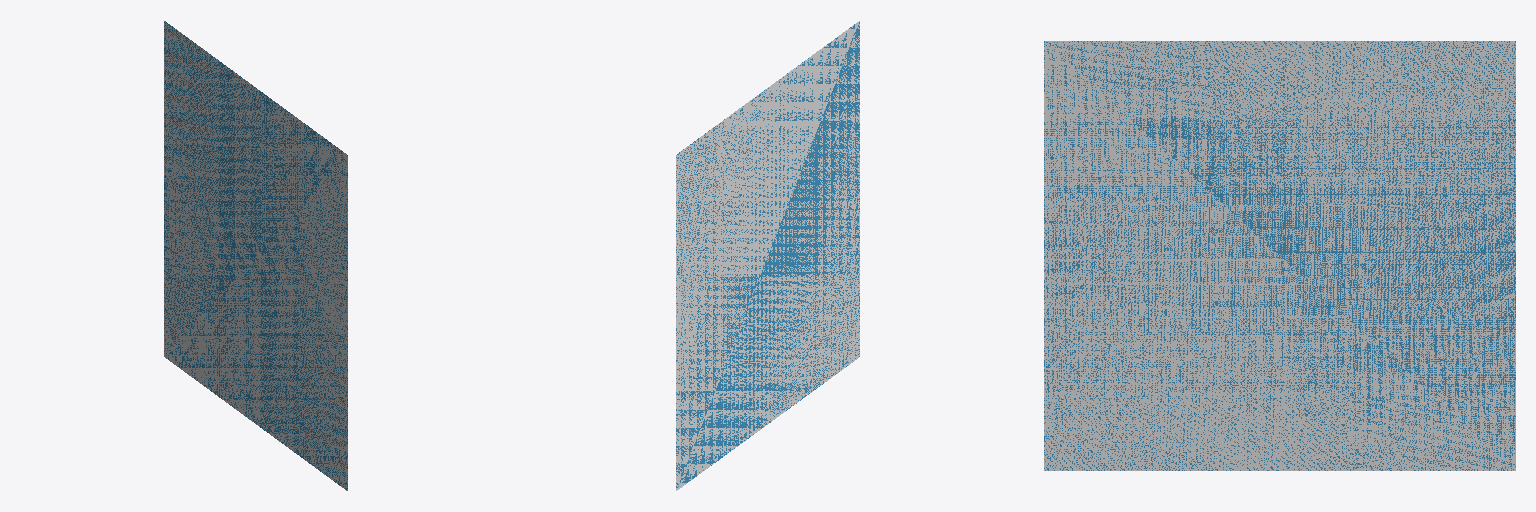
URDF robot description (prius):
<?xml version="1.0"?>
<robot xmlns:xacro="http://ros.org/wiki/xacro" name="prius">
  <!--- Surface properties must come first? -->
  <gazebo reference="front_left_wheel">
    <mu1>0.9</mu1>
    <mu2>0.9</mu2>
    <minDepth>0.005</minDepth>
    <kp>1e8</kp>
  </gazebo>
  <gazebo reference="front_right_wheel">
    <mu1>0.9</mu1>
    <mu2>0.9</mu2>
    <minDepth>0.005</minDepth>
    <kp>1e8</kp>
  </gazebo>
  <gazebo reference="rear_left_wheel">
    <mu1>0.9</mu1>
    <mu2>0.9</mu2>
    <minDepth>0.005</minDepth>
    <kp>1e8</kp>
  </gazebo>
  <gazebo reference="rear_right_wheel">
    <mu1>0.9</mu1>
    <mu2>0.9</mu2>
    <minDepth>0.005</minDepth>
    <kp>1e8</kp>
  </gazebo>

	<gazebo reference="planding_place">
		  <mu1>0.9</mu1>
		  <mu2>0.9</mu2>
		  <minDepth>0.005</minDepth>
		  <kp>1e8</kp>
	</gazebo>


  <link name="base_link">
    <inertial>
      <mass value="1"/>
      <inertia ixx="0.001" ixy="0.0" ixz="0.0" iyy="0.001" iyz="0.0" izz="0.001"/>
    </inertial>
  </link>
  <joint name="base_link_connection" type="fixed">
    <parent link="base_link"/>
    <child link="chassis"/>
    <origin xyz="1.45 0 0" rpy="0 0 1.57"/>
    <axis xyz="1 0 0"/>
  </joint>


  <link name="planding_place">
    <inertial>
      <mass value="0.1"/>
      <origin xyz="0 0 0"/>
      <inertia ixx="0.0" ixy="0.0" ixz="0.0" iyy="0.0" iyz="0.0" izz="0.0"/>
    </inertial>
    <visual>
      <origin xyz="0 0 0" rpy="0 0 0"/>
      <geometry>
          <mesh filename="package://simulation/urdf/car/meshes/landing.dae" scale="3 3 3"/>
      </geometry>
    </visual>
  </link>

  <joint name="landing_link_connection" type="fixed">
    <parent link="chassis"/>
    <child link="planding_place"/>
    <origin xyz="0.4 2.2 1.5" rpy="-1.57 0 0"/>
    <axis xyz="1 0 0"/>
  </joint>

  <link name="chassis">
    <visual>
      <origin xyz="0 0 0" rpy="0 0 0"/>
      <geometry>
        <mesh filename="package://simulation/urdf/car/meshes/hybrid_body.obj" scale="0.01 0.01 0.01"/>
      </geometry>
    </visual>

    <collision name="chassis">
      <origin xyz="0.0 0.05 0.625" rpy="0 0 0"/>
      <geometry>
        <box size="1.7526 2.1 0.95"/>
      </geometry>
    </collision>

    <collision name="front_bumper">
      <origin xyz="0.0 -2.0 0.458488" rpy="0.0 0 0"/>
      <geometry>
        <box size="1.337282 0.48 0.566691"/>
      </geometry>
    </collision>

    <collision name="hood">
      <origin xyz="0.0 -1.900842 0.676305" rpy="0.341247 0 0"/>
      <geometry>
        <box size="1.597968 0.493107 0.265468"/>
      </geometry>
    </collision>

    <collision name="windshield">
      <origin xyz="0.0 -0.875105 1.032268" rpy="0.335476 0 0"/>
      <geometry>
        <box size="1.168381 1.654253 0.272347"/>
      </geometry>
    </collision>

    <collision name="top_front">
      <origin xyz="0.0 0.161236 1.386042" rpy="0.135030 0 0"/>
      <geometry>
        <box size="1.279154 0.625988 0.171868"/>
      </geometry>
    </collision>

    <collision name="top_rear">
      <origin xyz="0.0 0.817696 1.360069" rpy="-0.068997 0 0"/>
      <geometry>
        <box size="1.285130 0.771189 0.226557"/>
      </geometry>
    </collision>

    <collision name="rear_window">
      <origin xyz="0.0 1.640531 1.175126" rpy="-0.262017 0 0"/>
      <geometry>
        <box size="1.267845 1.116344 0.244286"/>
      </geometry>
    </collision>

    <collision name="trunk">
      <origin xyz="0.0 1.637059 0.888180" rpy="0.0 0 0"/>
      <geometry>
        <box size="1.788064 1.138988 0.482746"/>
      </geometry>
    </collision>

    <collision name="back_bumper">
      <origin xyz="0.0 2.054454 0.577870" rpy="0.0 0 0"/>
      <geometry>
        <box size="1.781650 0.512093 0.581427"/>
      </geometry>
    </collision>

    <inertial>
      <mass value="1356.0"/>
      <origin xyz="0 0 0.48" rpy="0 0 1.5708"/>
      <inertia ixx="2581.13354740" ixy="0.0" ixz="0.0" iyy="591.30846112" iyz="0.0" izz="2681.95008628"/>
    </inertial>
  </link>


  <link name="fl_axle">
    <inertial>
      <mass value="1"/>
      <origin xyz="0 0 0"/>
      <inertia ixx="0.004" ixy="0.0" ixz="0.0" iyy="0.004" iyz="0.0" izz="0.004"/>
    </inertial>
  </link>
  <link name="fr_axle">
    <inertial>
      <mass value="1"/>
      <origin xyz="0 0 0"/>
      <inertia ixx="0.004" ixy="0.0" ixz="0.0" iyy="0.004" iyz="0.0" izz="0.004"/>
    </inertial>
  </link>
  <link name="front_left_wheel">
    <inertial>
      <mass value="11"/>
      <origin xyz="0 0 0"/>
      <inertia ixx="0.58631238" ixy="0.0" ixz="0.0" iyy="0.33552910" iyz="0.0" izz="0.33552910"/>
    </inertial>
    <collision name="front_left_wheel_collision">
      <geometry>
        <sphere radius="0.31265"/>
      </geometry>
    </collision>
    <visual>
      <origin xyz="0 0 0" rpy="0 0 0"/>
      <geometry>
        <mesh filename="package://simulation/urdf/car/meshes/wheel.obj" scale="0.01 0.01 0.01"/>
      </geometry>
    </visual>
  </link>
  <link name="front_right_wheel">
    <inertial>
      <mass value="11"/>
      <origin xyz="0 0 0"/>
      <inertia ixx="0.58631238" ixy="0.0" ixz="0.0" iyy="0.33552910" iyz="0.0" izz="0.33552910"/>
    </inertial>
    <collision name="front_right_wheel_collision">
      <geometry>
        <sphere radius="0.31265"/>
      </geometry>
    </collision>
    <visual>
      <origin xyz="0 0 0" rpy="0 0 0"/>
      <geometry>
        <mesh filename="package://simulation/urdf/car/meshes/wheel.obj" scale="0.01 0.01 0.01"/>
      </geometry>
    </visual>
  </link>
  <link name="rear_left_wheel">
    <inertial>
      <mass value="11"/>
      <origin xyz="0 0 0"/>
      <inertia ixx="0.58631238" ixy="0.0" ixz="0.0" iyy="0.33552910" iyz="0.0" izz="0.33552910"/>
    </inertial>
    <collision name="rear_left_wheel_collision">
      <geometry>
        <sphere radius="0.31265"/>
      </geometry>
    </collision>
    <visual>
      <origin xyz="0 0 0" rpy="0 0 0"/>
      <geometry>
        <mesh filename="package://simulation/urdf/car/meshes/wheel.obj" scale="0.01 0.01 0.01"/>
      </geometry>
    </visual>
  </link>
  <link name="rear_right_wheel">
    <inertial>
      <mass value="11"/>
      <origin xyz="0 0 0"/>
      <inertia ixx="0.58631238" ixy="0.0" ixz="0.0" iyy="0.33552910" iyz="0.0" izz="0.33552910"/>
    </inertial>
    <collision name="rear_right_wheel_collision">
      <geometry>
        <sphere radius="0.31265"/>
      </geometry>
    </collision>
    <visual>
      <origin xyz="0 0 0" rpy="0 0 0"/>
      <geometry>
        <mesh filename="package://simulation/urdf/car/meshes/wheel.obj" scale="0.01 0.01 0.01"/>
      </geometry>

    </visual>
  </link>
  <link name="steering_wheel">
    <inertial>
      <mass value="1.0"/>
      <inertia ixx="0.14583300" ixy="0.0" ixz="0.0" iyy="0.14583300" iyz="0.0" izz="0.125"/>
    </inertial>
    <visual>
      <origin xyz="0 0 0" rpy="1.302101 0 0"/>
      <geometry>
        <mesh filename="package://simulation/urdf/car/meshes/steering_wheel.obj" scale="0.01 0.01 0.01"/>
      </geometry>
    </visual>
  </link>



  <joint name="steering_joint" type="continuous">
    <origin xyz="0.357734 -0.627868 0.988243" rpy="-1.302101 0 0"/>
    <parent link="chassis"/>
    <child link="steering_wheel"/>
    <axis xyz="0 0 1"/>
    <limit lower="-7.85" upper="7.85" effort="10000000" velocity="1000000"/>
  </joint>

  <joint name="front_left_steer_joint" type="continuous">
    <parent link="chassis"/>
    <child link="fl_axle"/>
    <origin xyz="0.767 -1.41 0.3" rpy="0 0 0"/>
    <axis xyz="0 0 1"/>
    <limit lower="-0.8727" upper="0.8727" effort="10000000" velocity="1000000"/>
  </joint>
  <joint name="front_right_steer_joint" type="continuous">
    <parent link="chassis"/>
    <child link="fr_axle"/>
    <origin xyz="-0.767 -1.41 0.3" rpy="0 0 0"/>
    <axis xyz="0 0 1"/>
    <limit lower="-0.8727" upper="0.8727" effort="10000000" velocity="1000000"/>
  </joint>
  <joint name="front_left_wheel_joint" type="continuous">
    <parent link="fl_axle"/>
    <child link="front_left_wheel"/>
    <origin xyz="0 0 0" rpy="0 0 0"/>
    <axis xyz="1 0 0"/>
  </joint>
  <joint name="front_right_wheel_joint" type="continuous">
    <parent link="fr_axle"/>
    <child link="front_right_wheel"/>
    <origin xyz="0 0 0" rpy="0 0 0"/>
    <axis xyz="1 0 0"/>
  </joint>
  <joint name="rear_left_wheel_joint" type="continuous">
    <parent link="chassis"/>
    <child link="rear_left_wheel"/>
    <origin xyz="0.793 1.45 0.3" rpy="0 0 0"/>
    <axis xyz="1 0 0"/>
  </joint>
  <joint name="rear_right_wheel_joint" type="continuous">
    <parent link="chassis"/>
    <child link="rear_right_wheel"/>
    <origin xyz="-0.793 1.45 0.3" rpy="0 0 0"/>
    <axis xyz="1 0 0"/>
  </joint>


  <gazebo reference="base_link_connection">
    <disableFixedJointLumping>true</disableFixedJointLumping>
  </gazebo>

  <gazebo reference="landing_link_connection">
    <disableFixedJointLumping>true</disableFixedJointLumping>
  </gazebo>

  <link name="front_camera_link">
    <inertial>
      <mass value="1"/>
      <inertia ixx="0.001" ixy="0.0" ixz="0.0" iyy="0.001" iyz="0.0" izz="0.001"/>
    </inertial>
  </link>
  <joint name="front_camera_joint" type="fixed">
    <parent link="chassis"/>
    <child link="front_camera_link"/>
    <origin xyz="0 -0.4 1.4" rpy="0 0.05 -1.5707"/>
  </joint>

  <link name="back_camera_link">
    <inertial>
      <mass value="1"/>
      <inertia ixx="0.001" ixy="0.0" ixz="0.0" iyy="0.001" iyz="0.0" izz="0.001"/>
    </inertial>
  </link>
  <joint name="back_camera_joint" type="fixed">
    <parent link="chassis"/>
    <child link="back_camera_link"/>
    <origin xyz="0 1.45 1.4" rpy="0 0.05 1.5707"/>
  </joint>

  <link name="left_camera_link">
    <inertial>
      <mass value="1"/>
      <inertia ixx="0.001" ixy="0.0" ixz="0.0" iyy="0.001" iyz="0.0" izz="0.001"/>
    </inertial>
  </link>
  <joint name="left_camera_joint" type="fixed">
    <parent link="chassis"/>
    <child link="left_camera_link"/>
    <origin xyz="1 -0.7 1.0" rpy="0 0.05 1.0"/>
  </joint>

  <link name="right_camera_link">
    <inertial>
      <mass value="1"/>
      <inertia ixx="0.001" ixy="0.0" ixz="0.0" iyy="0.001" iyz="0.0" izz="0.001"/>
    </inertial>
  </link>
  <joint name="right_camera_joint" type="fixed">
    <parent link="chassis"/>
    <child link="right_camera_link"/>
    <origin xyz="-1 -0.7 1.0" rpy="0 0.05 2.1416"/>
  </joint>
  <gazebo>
    <plugin name="pruis_hybrid_drive" filename="libPriusHybridPlugin.so">
      <chassis>chassis</chassis>
      <front_left_wheel>front_left_wheel_joint</front_left_wheel>
      <front_right_wheel>front_right_wheel_joint</front_right_wheel>
      <front_left_wheel_steering>front_left_steer_joint</front_left_wheel_steering>
      <front_right_wheel_steering>front_right_steer_joint</front_right_wheel_steering>
      <back_left_wheel>rear_left_wheel_joint</back_left_wheel>
      <back_right_wheel>rear_right_wheel_joint</back_right_wheel>
      <steering_wheel>steering_joint</steering_wheel>
      <chassis_aero_force_gain>0.63045</chassis_aero_force_gain>
      <front_torque>859.4004393000001</front_torque>
      <back_torque>0</back_torque>
      <front_brake_torque>1031.28052716</front_brake_torque>
      <back_brake_torque>687.5203514400001</back_brake_torque>
      <max_speed>1</max_speed>
      <min_gas_flow>8.981854013171626e-05</min_gas_flow>
      <gas_efficiency>0.371</gas_efficiency>
      <battery_charge_watt_hours>291</battery_charge_watt_hours>
      <battery_discharge_watt_hours>214</battery_discharge_watt_hours>
      <max_steer>0.6458</max_steer>
      <flwheel_steering_p_gain>1e4</flwheel_steering_p_gain>
      <frwheel_steering_p_gain>1e4</frwheel_steering_p_gain>
      <flwheel_steering_i_gain>0</flwheel_steering_i_gain>
      <frwheel_steering_i_gain>0</frwheel_steering_i_gain>
      <flwheel_steering_d_gain>3e2</flwheel_steering_d_gain>
      <frwheel_steering_d_gain>3e2</frwheel_steering_d_gain>
    </plugin>
  </gazebo>

  <gazebo>
    <plugin name="joint_state_publisher" filename="libgazebo_ros_joint_state_publisher.so">
      <!-- <robotNamespace>/prius</robotNamespace> -->
      <jointName>rear_right_wheel_joint, rear_left_wheel_joint, front_right_wheel_joint, front_left_wheel_joint, front_right_steer_joint, front_left_steer_joint, steering_joint</jointName>
      <updateRate>100.0</updateRate>
      <alwaysOn>true</alwaysOn>
    </plugin>
  </gazebo>

  <gazebo>
    <plugin name="p3d" filename="libgazebo_ros_p3d.so">
      <!-- <robotNamespace>/prius</robotNamespace> -->
      <bodyName>base_link</bodyName>
      <topicName>base_pose_ground_truth</topicName>
      <frameName>map</frameName>
      <updateRate>100.0</updateRate>
    </plugin>
  </gazebo>

  <gazebo reference="front_camera_link">
    <sensor type="camera" name="front_camera_sensor">
      <update_rate>30.0</update_rate>
      <camera name="front_camera">
        <horizontal_fov>1.3962634</horizontal_fov>
        <image>
          <width>800</width>
          <height>800</height>
          <format>R8G8B8</format>
        </image>
        <clip>
          <near>0.02</near>
          <far>300</far>
        </clip>
        <noise>
          <type>gaussian</type>
          <mean>0.0</mean>
          <stddev>0.007</stddev>
        </noise>
      </camera>
      <plugin name="front_camera_controller" filename="libgazebo_ros_camera.so">
        <alwaysOn>false</alwaysOn>
        <updateRate>0.0</updateRate>
        <cameraName>/prius/front_camera</cameraName>
        <imageTopicName>image_raw</imageTopicName>
        <cameraInfoTopicName>/prius/front_camera_info</cameraInfoTopicName>
        <frameName>camera_link</frameName>
        <hackBaseline>0.07</hackBaseline>
        <distortionK1>0.0</distortionK1>
        <distortionK2>0.0</distortionK2>
        <distortionK3>0.0</distortionK3>
        <distortionT1>0.0</distortionT1>
        <distortionT2>0.0</distortionT2>
      </plugin>
    </sensor>
  </gazebo>

  <gazebo reference="back_camera_link">
    <sensor type="camera" name="back_camera_sensor">
      <update_rate>30.0</update_rate>
      <camera name="back_camera">
        <horizontal_fov>1.3962634</horizontal_fov>
        <image>
          <width>800</width>
          <height>800</height>
          <format>R8G8B8</format>
        </image>
        <clip>
          <near>0.02</near>
          <far>300</far>
        </clip>
        <noise>
          <type>gaussian</type>
          <mean>0.0</mean>
          <stddev>0.007</stddev>
        </noise>
      </camera>
      <plugin name="back_camera_controller" filename="libgazebo_ros_camera.so">
        <alwaysOn>false</alwaysOn>
        <updateRate>0.0</updateRate>
        <cameraName>/prius/back_camera</cameraName>
        <imageTopicName>image_raw</imageTopicName>
        <cameraInfoTopicName>/prius/back_camera_info</cameraInfoTopicName>
        <frameName>camera_link</frameName>
        <hackBaseline>0.07</hackBaseline>
        <distortionK1>0.0</distortionK1>
        <distortionK2>0.0</distortionK2>
        <distortionK3>0.0</distortionK3>
        <distortionT1>0.0</distortionT1>
        <distortionT2>0.0</distortionT2>
      </plugin>
    </sensor>
  </gazebo>

  <gazebo reference="left_camera_link">
    <sensor type="camera" name="left_camera_sensor">
      <update_rate>30.0</update_rate>
      <camera name="left_camera">
        <horizontal_fov>1.3962634</horizontal_fov>
        <image>
          <width>800</width>
          <height>800</height>
          <format>R8G8B8</format>
        </image>
        <clip>
          <near>0.02</near>
          <far>300</far>
        </clip>
        <noise>
          <type>gaussian</type>
          <mean>0.0</mean>
          <stddev>0.007</stddev>
        </noise>
      </camera>
      <plugin name="left_camera_controller" filename="libgazebo_ros_camera.so">
        <alwaysOn>false</alwaysOn>
        <updateRate>0.0</updateRate>
        <cameraName>/prius/left_camera</cameraName>
        <imageTopicName>image_raw</imageTopicName>
        <cameraInfoTopicName>/prius/left_camera_info</cameraInfoTopicName>
        <frameName>camera_link</frameName>
        <hackBaseline>0.07</hackBaseline>
        <distortionK1>0.0</distortionK1>
        <distortionK2>0.0</distortionK2>
        <distortionK3>0.0</distortionK3>
        <distortionT1>0.0</distortionT1>
        <distortionT2>0.0</distortionT2>
      </plugin>
    </sensor>
  </gazebo>

  <gazebo reference="right_camera_link">
    <sensor type="camera" name="right_camera_sensor">
      <update_rate>30.0</update_rate>
      <camera name="right_camera">
        <horizontal_fov>1.3962634</horizontal_fov>
        <image>
          <width>800</width>
          <height>800</height>
          <format>R8G8B8</format>
        </image>
        <clip>
          <near>0.02</near>
          <far>300</far>
        </clip>
        <noise>
          <type>gaussian</type>
          <mean>0.0</mean>
          <stddev>0.007</stddev>
        </noise>
      </camera>
      <plugin name="right_camera_controller" filename="libgazebo_ros_camera.so">
        <alwaysOn>false</alwaysOn>
        <updateRate>0.0</updateRate>
        <cameraName>/prius/right_camera</cameraName>
        <imageTopicName>image_raw</imageTopicName>
        <cameraInfoTopicName>/prius/right_camera_info</cameraInfoTopicName>
        <frameName>camera_link</frameName>
        <hackBaseline>0.07</hackBaseline>
        <distortionK1>0.0</distortionK1>
        <distortionK2>0.0</distortionK2>
        <distortionK3>0.0</distortionK3>
        <distortionT1>0.0</distortionT1>
        <distortionT2>0.0</distortionT2>
      </plugin>
    </sensor>
  </gazebo>
</robot>

--- Facts derived from the render (not from the file) ---
3 views of the same robot in one strip: view 1: azimuth 30°, elevation 25°; view 2: azimuth 150°, elevation 25°; view 3: azimuth 270°, elevation 25° (orthographic).
Robot: prius — 14 links, 13 joints (7 continuous, 6 fixed); root link base_link; default pose: all joints at 0.
Visible links, largest first — view 1: planding_place; view 2: planding_place; view 3: planding_place.
Link boxes in pixels (bbox=[...]): planding_place: bbox=[164, 21, 347, 490]; planding_place: bbox=[676, 21, 859, 490]; planding_place: bbox=[1044, 41, 1515, 470].
Size in the robot's own frame: 0.0015 by 0.9244 by 0.933 metres.
Meshes: 4 distinct files referenced, 1 mesh visuals loaded (1 Collada DAE); not drawn: 6 (reference not matched to a file when rendering).